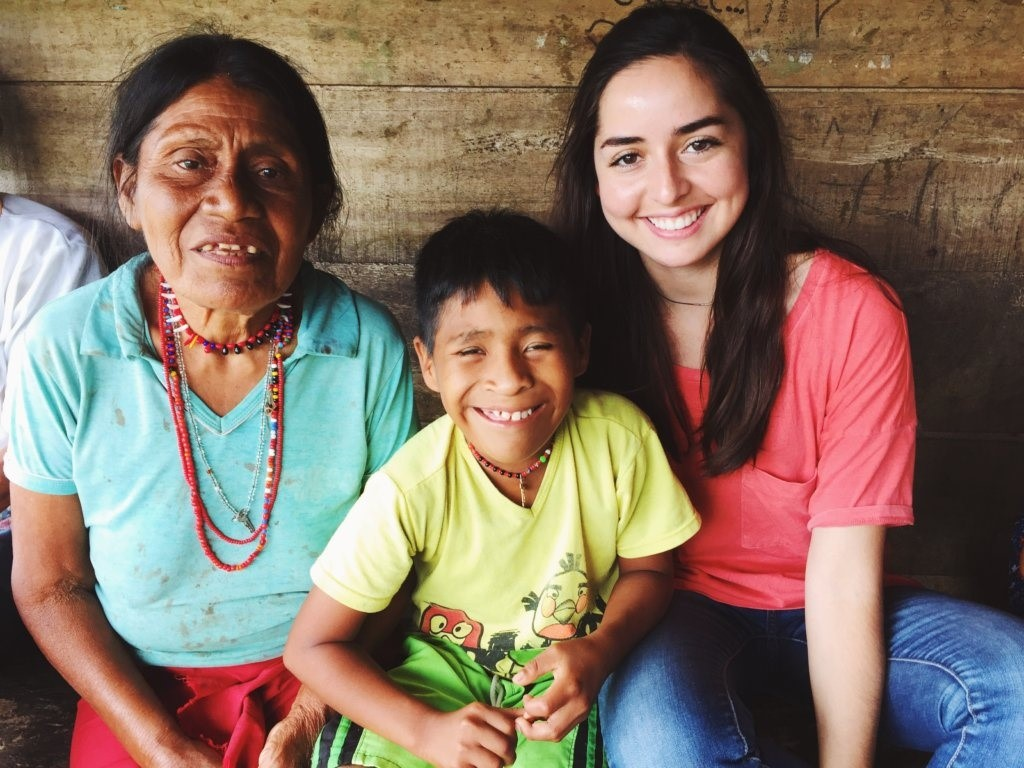face_no_mask: (107, 30, 334, 314), (581, 5, 763, 262), (402, 211, 572, 461)
